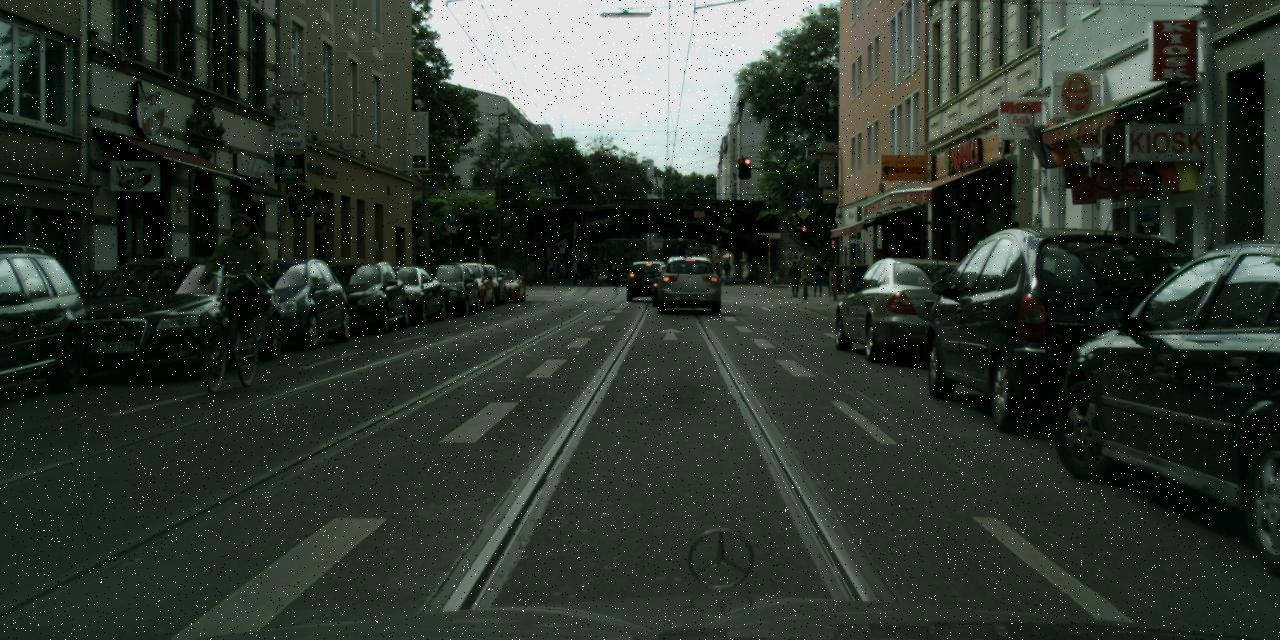ped: (206, 213, 266, 359), (874, 250, 900, 312), (797, 258, 813, 298), (787, 260, 802, 296), (810, 259, 824, 295), (822, 258, 836, 293), (570, 258, 581, 285), (538, 255, 549, 282), (604, 259, 614, 282), (580, 256, 589, 278), (723, 260, 731, 280), (591, 260, 598, 279)
